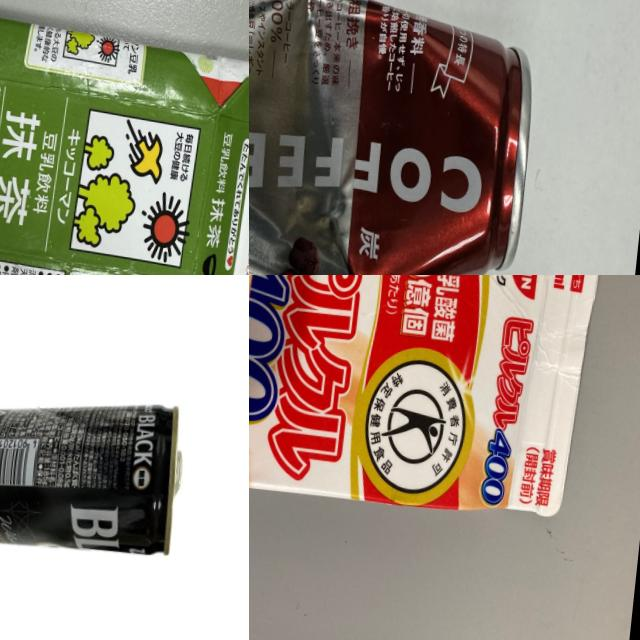Aluminium Foil: (249, 275, 611, 539), (0, 0, 249, 275)
Can: (249, 0, 539, 275), (0, 376, 189, 584)
